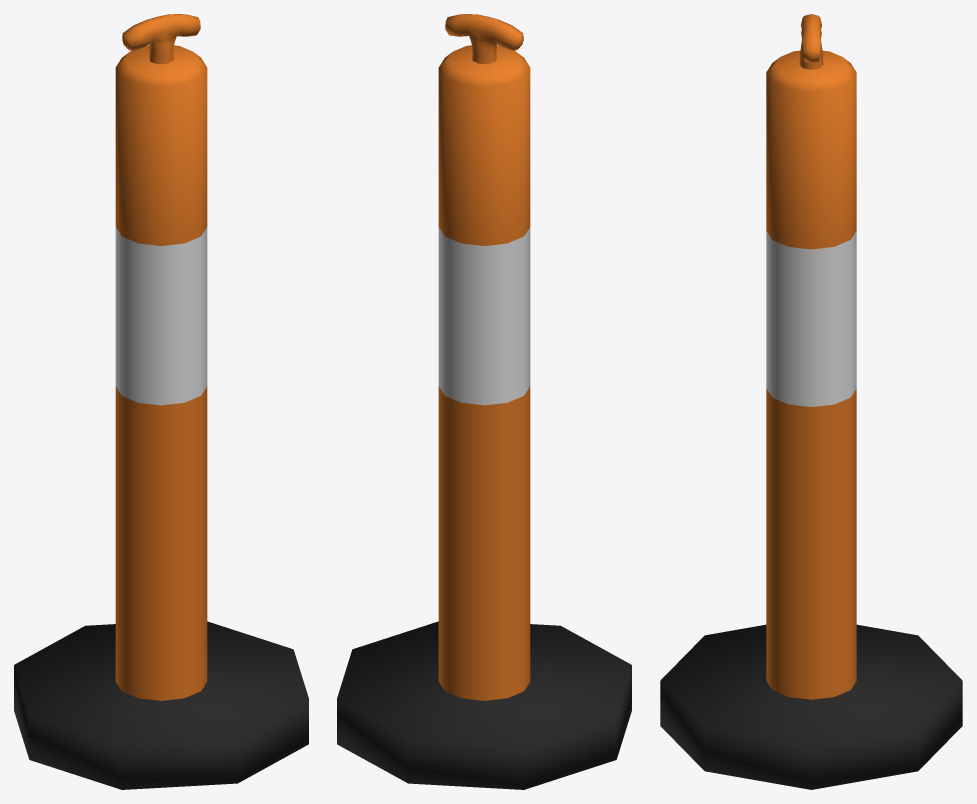
Rendered from reflector.fbx.
3 renders of one model, left to right at view 1: azimuth 30°, elevation 25°; view 2: azimuth 150°, elevation 25°; view 3: azimuth 270°, elevation 25°, orthographic.
Parts seen in each view (by area): view 1: reflector_pole; view 2: reflector_pole; view 3: reflector_pole.
Boxes of the visible parts, <box> form: reflector_pole: <box>14,14,308,789</box>; reflector_pole: <box>337,14,631,789</box>; reflector_pole: <box>660,14,962,789</box>.
Bounding box in the file's own units: 60 × 154 × 60.
